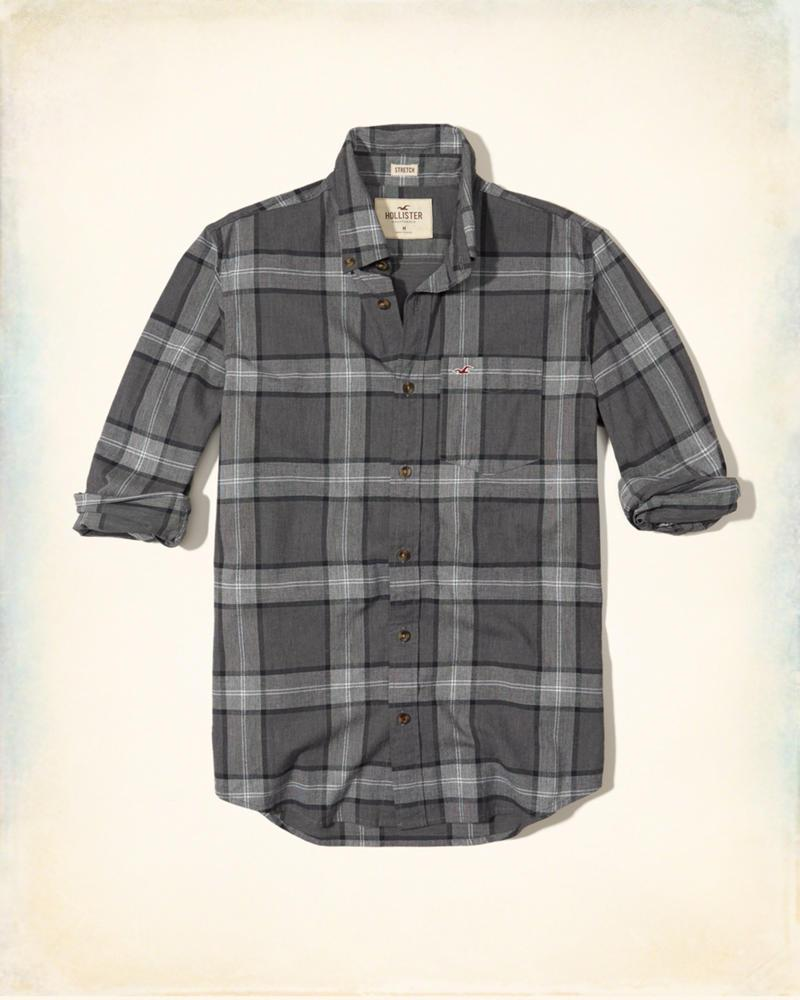teeshirt: (70, 121, 756, 846)
